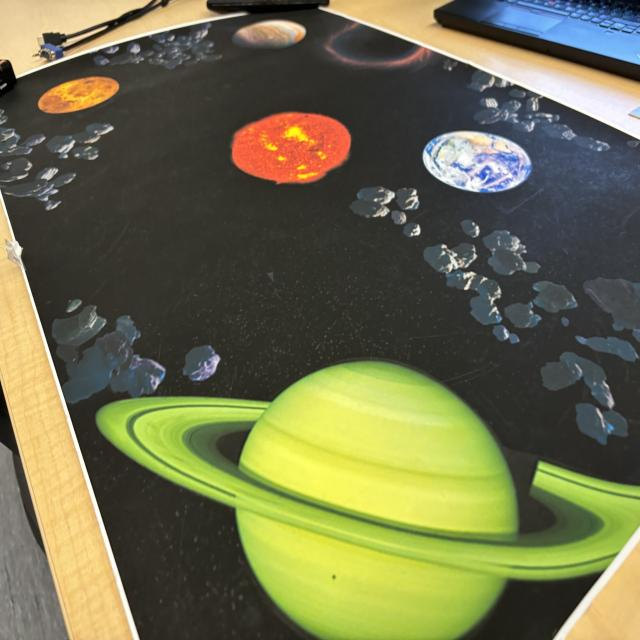Asteroids: (371, 193, 640, 379), (58, 293, 212, 401), (468, 66, 608, 150), (0, 114, 107, 203), (98, 24, 228, 69)
Black Hole: (327, 26, 428, 70)
Earth: (418, 130, 537, 194)
Jupiter: (234, 18, 307, 53)
Saturn: (114, 380, 639, 640)
Sun: (224, 104, 349, 190)
Venus: (36, 74, 119, 110)
